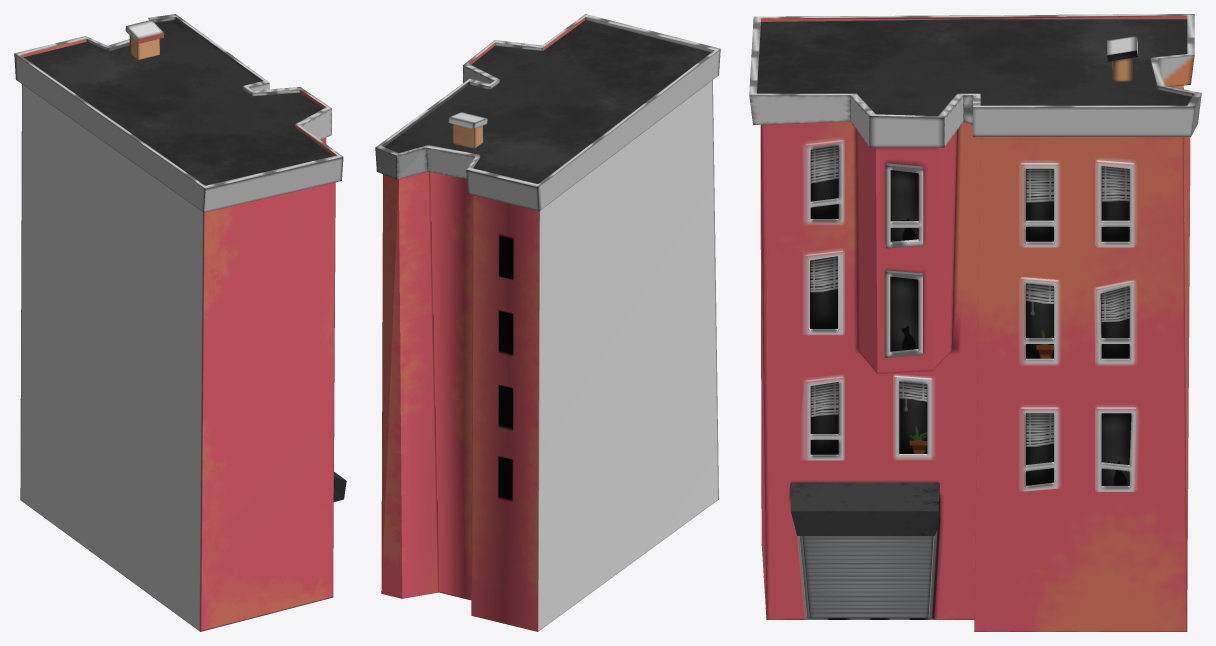
File: House_01.FBX
The picture shows the model from 3 angles, left to right: view 1: azimuth 30°, elevation 25°; view 2: azimuth 150°, elevation 25°; view 3: azimuth 270°, elevation 25°; orthographic projection. The views are drawn at different scales.
Visible parts, largest first — view 1: Box111; view 2: Box111; view 3: Box111.
Part boxes in pixels (x1,y1,x2,y2): Box111: (14,14,346,631); Box111: (375,14,720,631); Box111: (749,14,1201,631).
Size of the model in its own units: 109 by 270 by 200.
